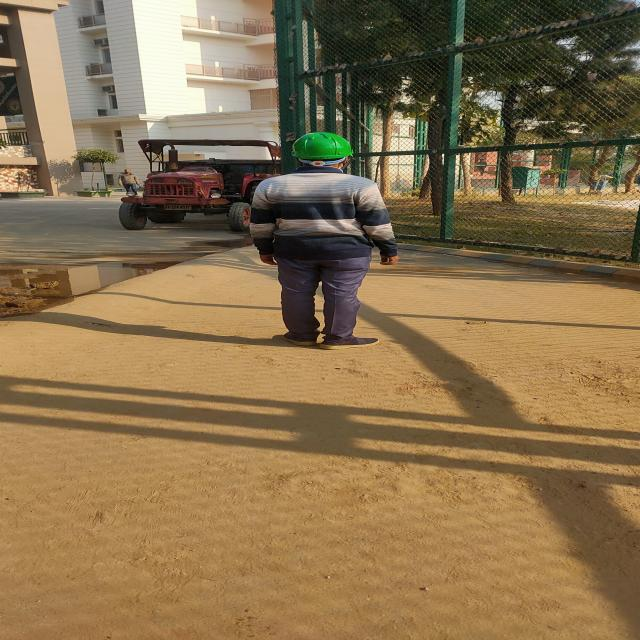no jacket: (250, 131, 400, 350)
